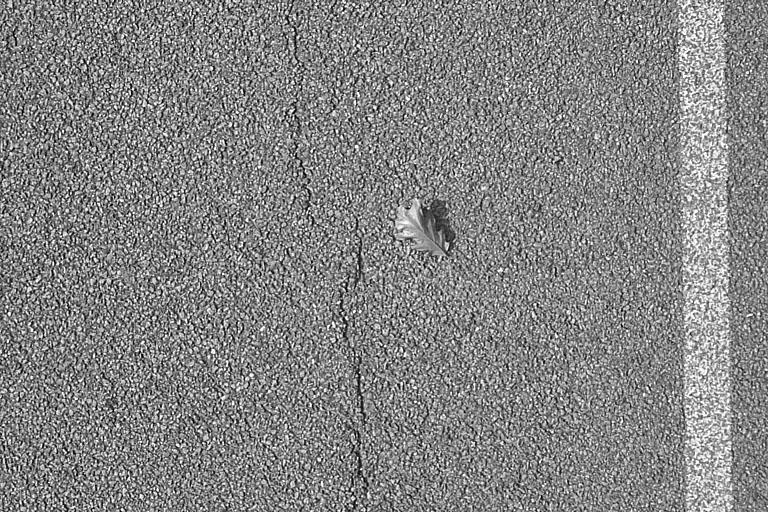alligator-crack: (281, 0, 383, 512)
